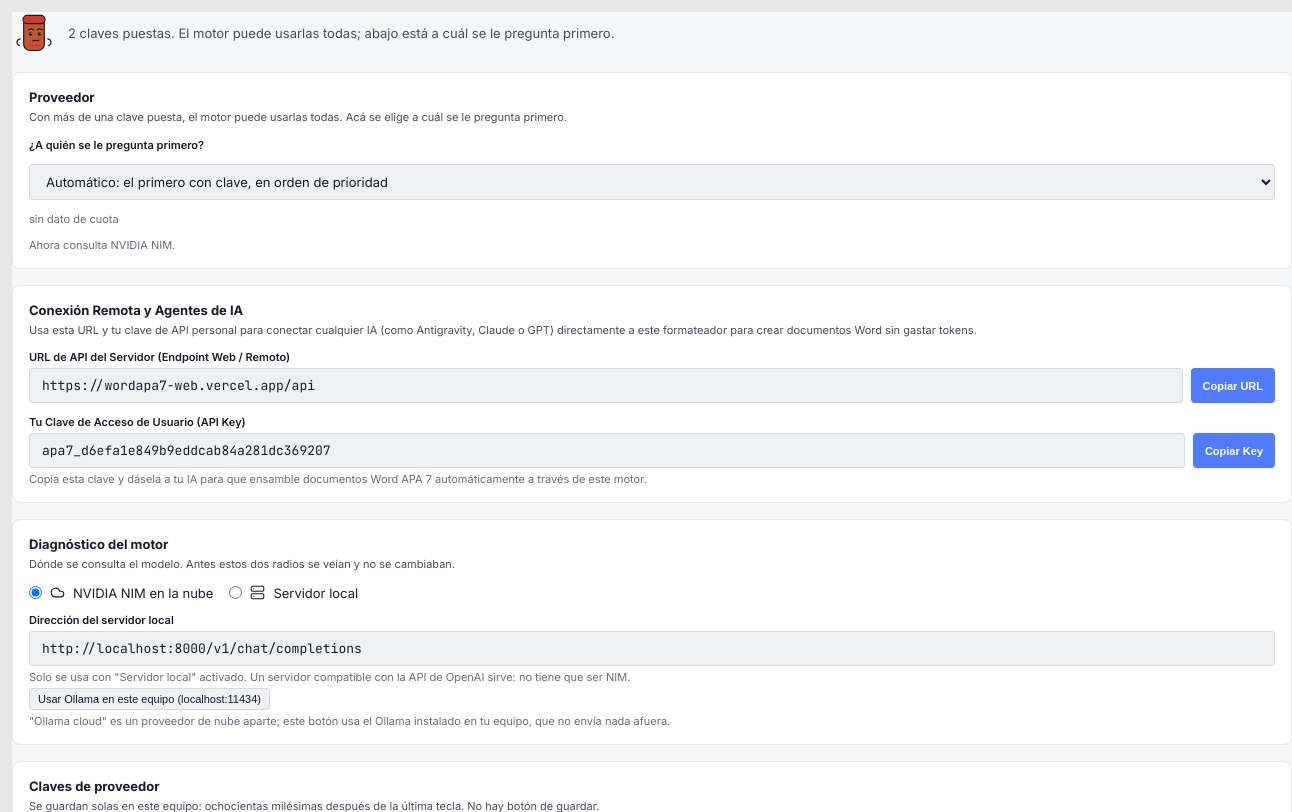
Conexión — elegir proveedor es una decisión, no una detección › el selector de la pestaña escribe en el store, y el store manda hacia atrás
The image size is (1292, 812).
Select "Groq" in the dropdown with test id "selector-proveedor" at (652,182), box [29,164,1275,200]
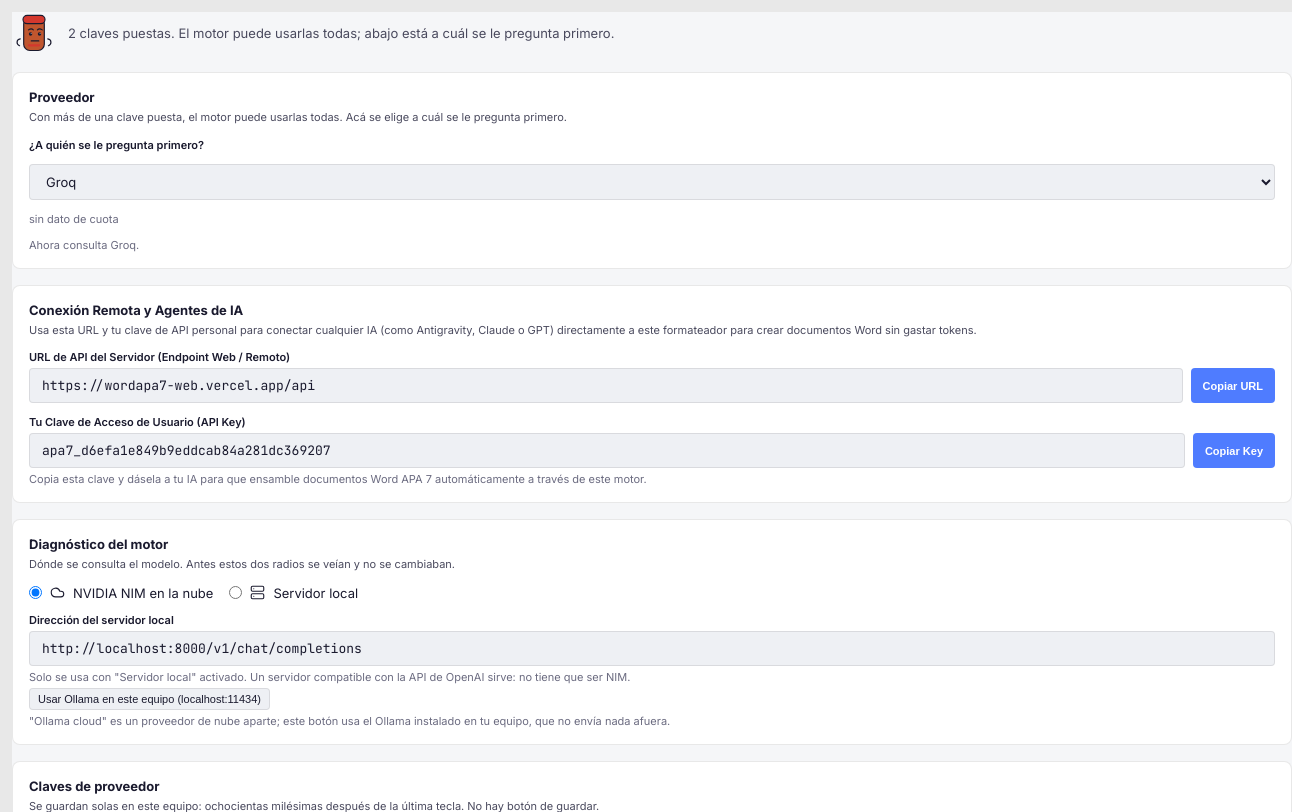
Expected: the text "Ahora consulta Groq." is shown, [29,238,139,252]
